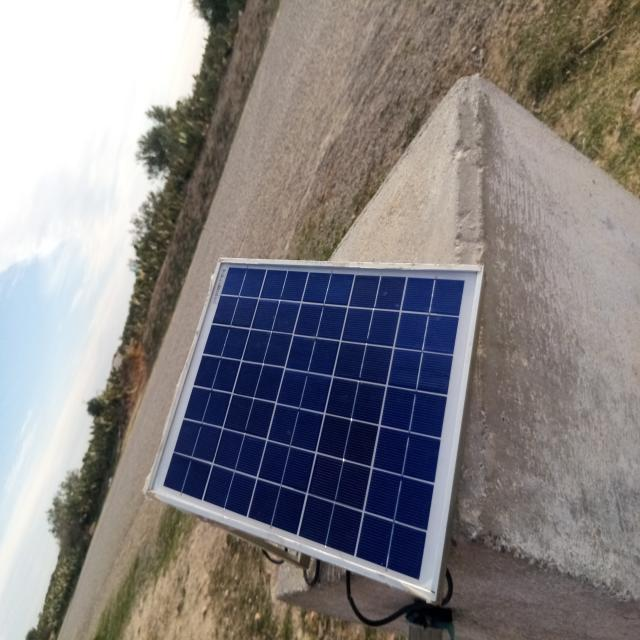no faulty: (148, 259, 483, 600)
